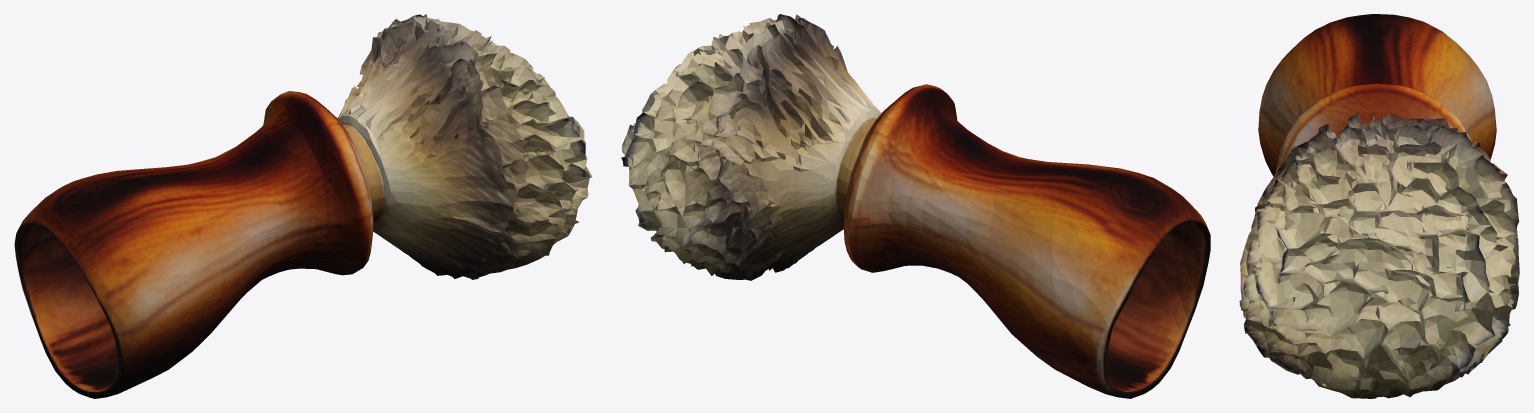
Rendered from wooden-shaving-brush-handle-rustic.jpeg.glb.
3 renders of one model, left to right at view 1: azimuth 30°, elevation 25°; view 2: azimuth 150°, elevation 25°; view 3: azimuth 270°, elevation 25°, orthographic. The views are drawn at different scales.
Parts seen in each view (by area): view 1: world; view 2: world; view 3: world.
Part boxes in pixels (x1,y1,x2,y2): world: (14, 14, 592, 398); world: (621, 14, 1210, 398); world: (1239, 14, 1519, 398).
Bounding box in the file's own units: 0.9954 × 0.5043 × 0.443.
Materials: 1 (1 with a texture image).
